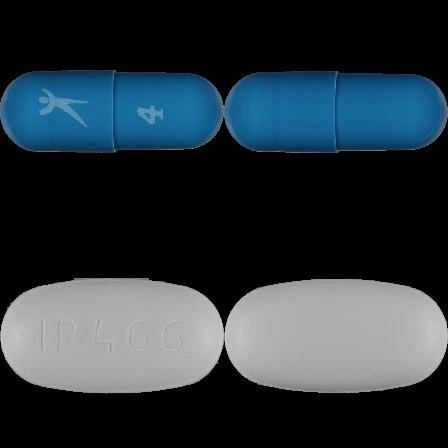55289-132: (0, 0, 224, 224)
